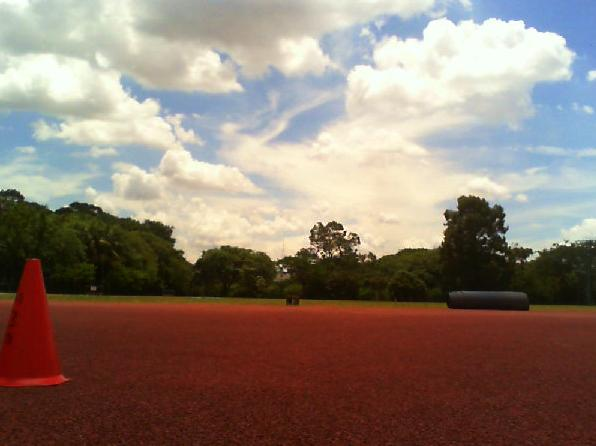0 cone: (0, 258, 70, 387)
